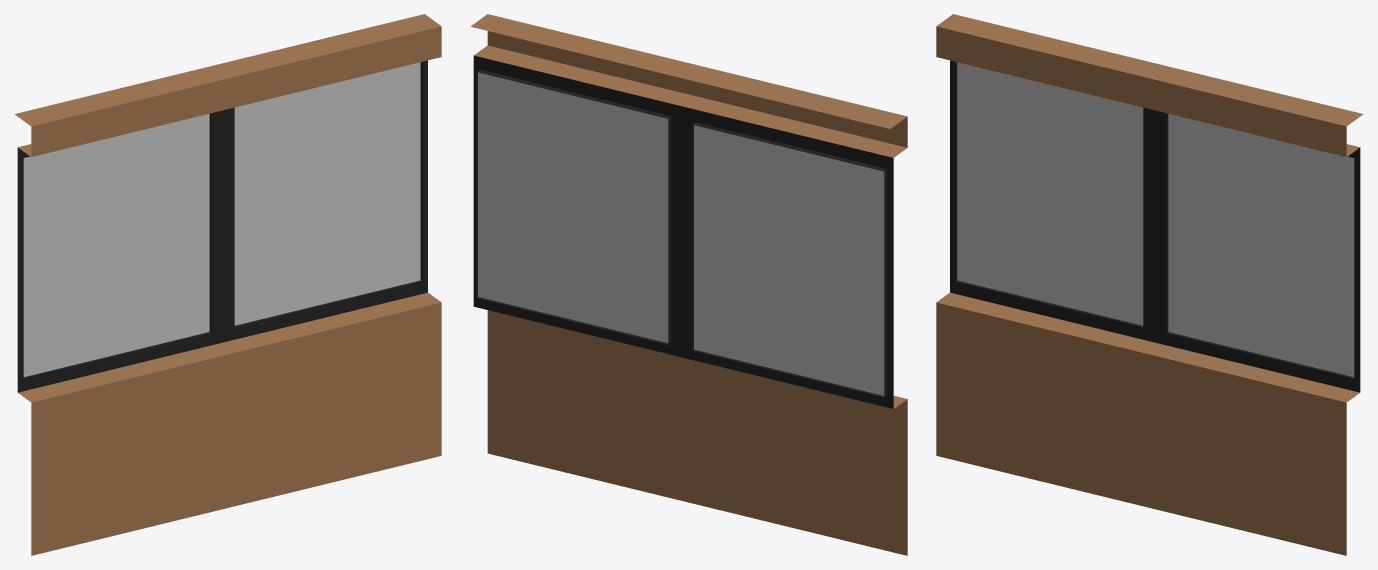
The model's file is M_WallFWindow200Brown100.fbx.
3 renders of one model, left to right at view 1: azimuth 30°, elevation 25°; view 2: azimuth 150°, elevation 25°; view 3: azimuth 330°, elevation 25°, orthographic. The views are drawn at different scales.
Parts seen in each view (by area): view 1: M_WallFWindow200Brown100; view 2: M_WallFWindow200Brown100; view 3: M_WallFWindow200Brown100.
Boxes of the visible parts, <box> form: M_WallFWindow200Brown100: <box>14,14,441,555</box>; M_WallFWindow200Brown100: <box>471,14,907,555</box>; M_WallFWindow200Brown100: <box>936,14,1363,555</box>.
Size of the model in its own units: 350 by 25 by 350.
